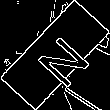N_NW: (22, 23, 88, 87)
